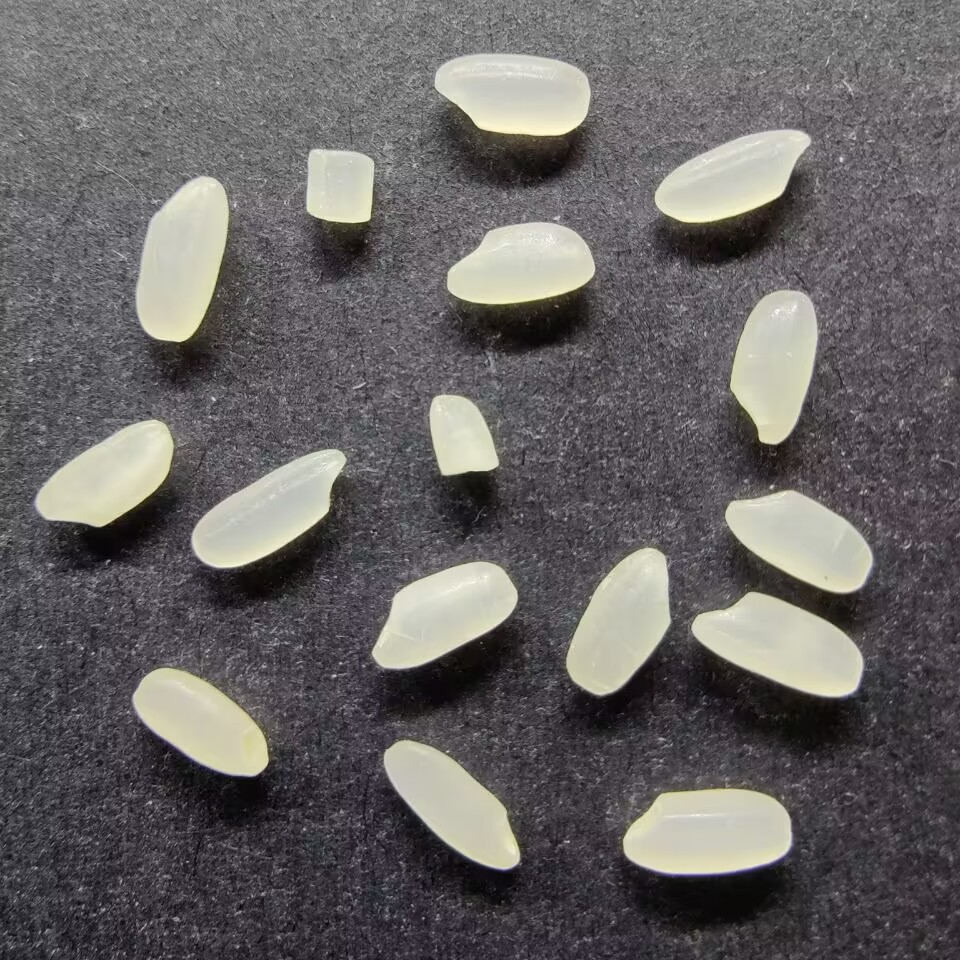broken: (428, 394, 501, 478), (302, 147, 377, 224)
rice: (189, 446, 347, 570), (382, 738, 523, 873), (691, 590, 864, 699), (368, 559, 519, 671), (129, 666, 272, 779), (31, 416, 174, 529), (564, 546, 671, 697), (652, 125, 811, 225), (722, 490, 874, 594), (134, 175, 228, 342), (621, 787, 792, 874), (727, 288, 818, 445), (432, 53, 593, 137), (444, 221, 597, 306)
